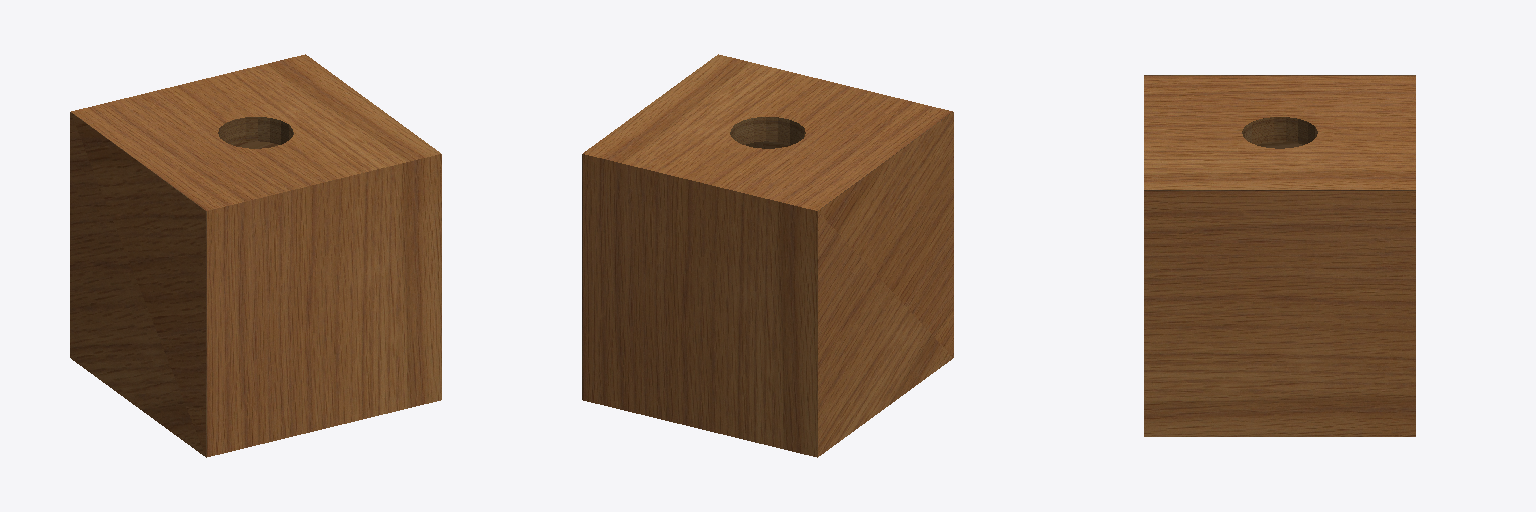
3 renders of one model, left to right at view 1: azimuth 30°, elevation 25°; view 2: azimuth 150°, elevation 25°; view 3: azimuth 270°, elevation 25°, orthographic.
Visible parts, largest first — view 1: board-medium_board-medium.001; view 2: board-medium_board-medium.001; view 3: board-medium_board-medium.001.
Boxes of the visible parts, <box> form: board-medium_board-medium.001: <box>70,54,441,457</box>; board-medium_board-medium.001: <box>582,54,953,457</box>; board-medium_board-medium.001: <box>1144,75,1415,436</box>.
Bounding box in the file's own units: 0.2 × 0.2 × 0.2.
Materials: 1 (1 with a texture image).